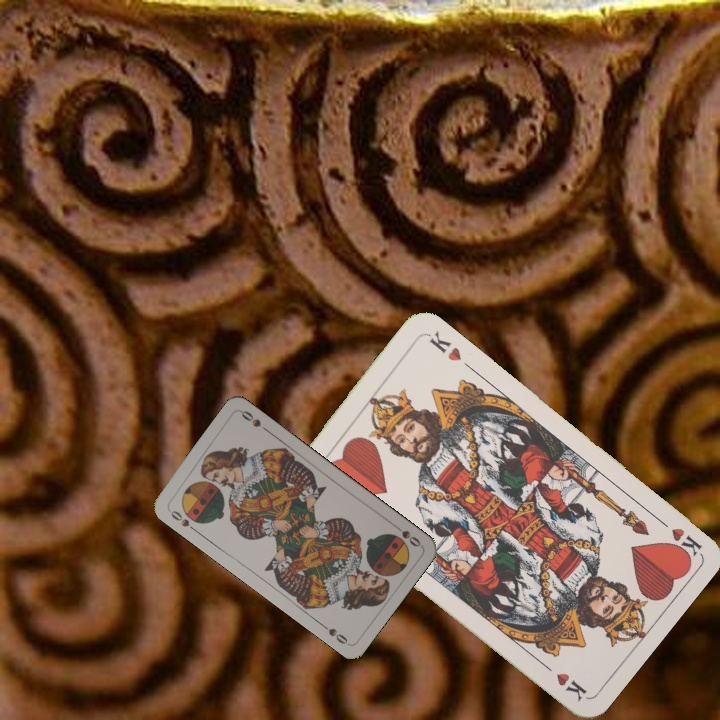HK: (651, 512, 704, 561)
SO: (389, 520, 423, 550), (164, 505, 199, 534)
